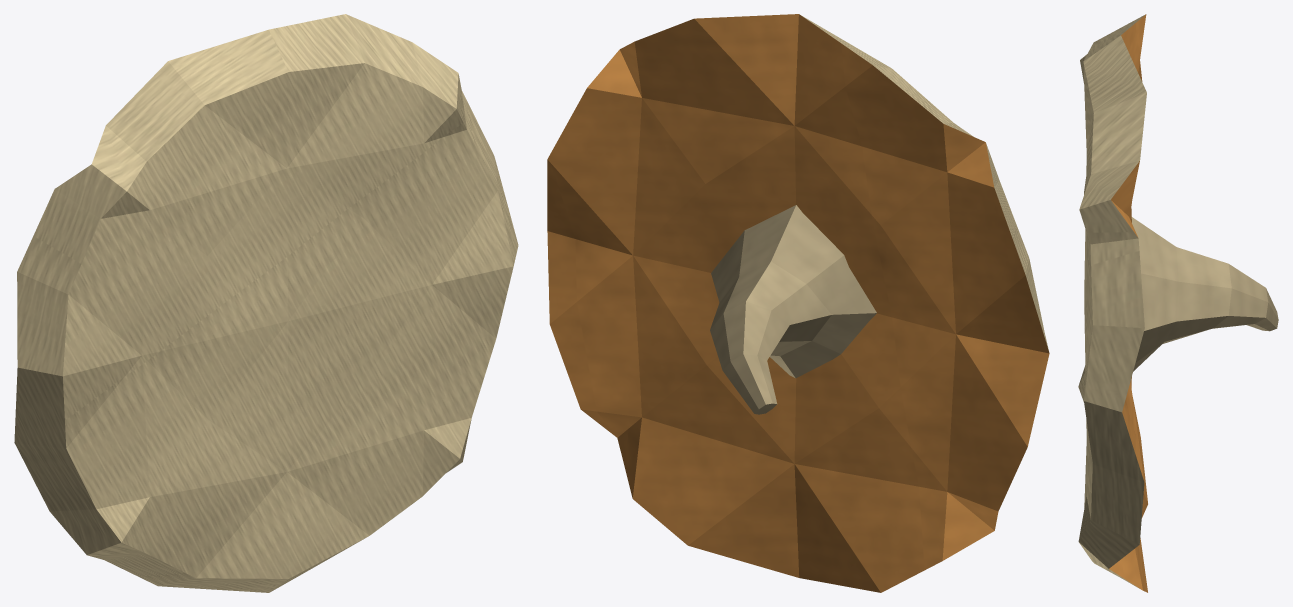
Rendered from item-pumpkin-lid.glb.
3 renders of one model, left to right at view 1: azimuth 30°, elevation 25°; view 2: azimuth 150°, elevation 25°; view 3: azimuth 270°, elevation 25°, orthographic. The views are drawn at different scales.
Bounding box in the file's own units: 0.8999 × 0.9665 × 0.33.
Materials: 3 (3 with a texture image).
